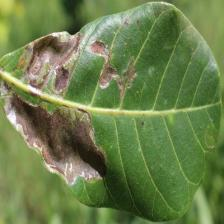leaf miner: (0, 86, 111, 188), (14, 29, 85, 99), (89, 38, 143, 106)
